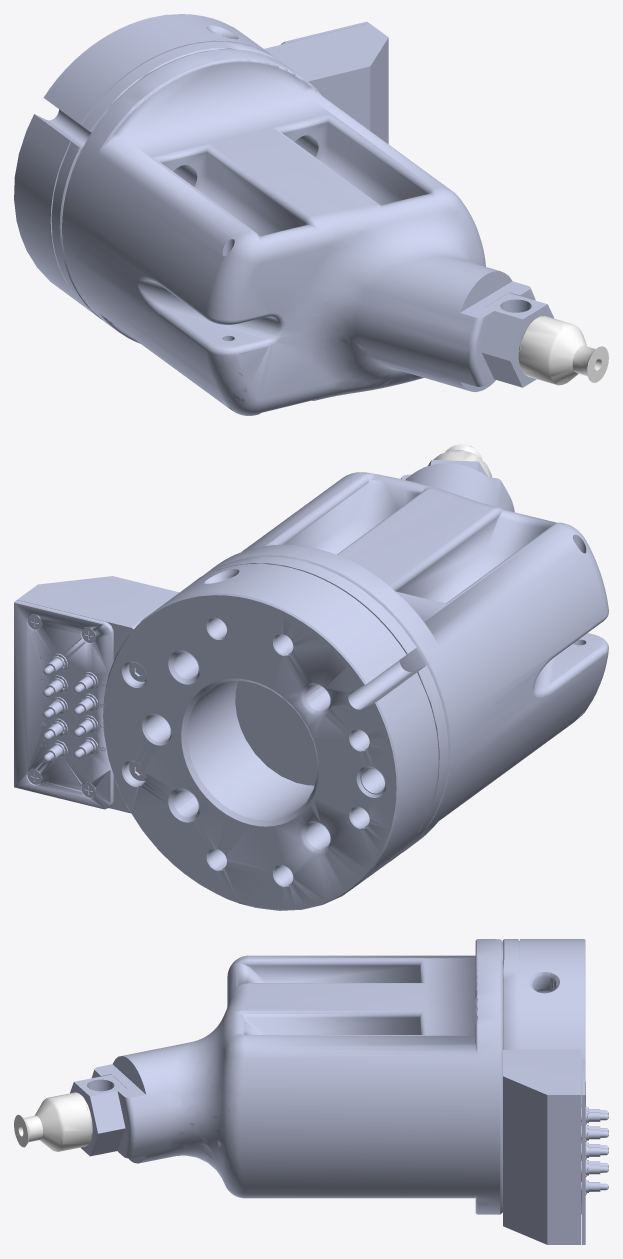
File: rcup6_p0.glb
3 renders of one model, top to bottom at view 1: azimuth 30°, elevation 25°; view 2: azimuth 150°, elevation 25°; view 3: azimuth 270°, elevation 25°, orthographic. The views are drawn at different scales.
Parts seen in each view (by area): view 1: g0, g1; view 2: g0, g1; view 3: g0, g1.
Boxes of the visible parts, x1,y1,x2,y2 form: g0: (14,14,554,415); g1: (518,316,608,385); g0: (14,460,608,910); g1: (433,444,491,477); g0: (70,939,608,1244); g1: (14,1092,92,1151).
Bounding box in the file's own units: 0.0649 × 0.05 × 0.1079.
